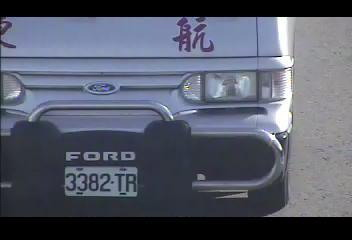plate: (62, 164, 139, 197)
